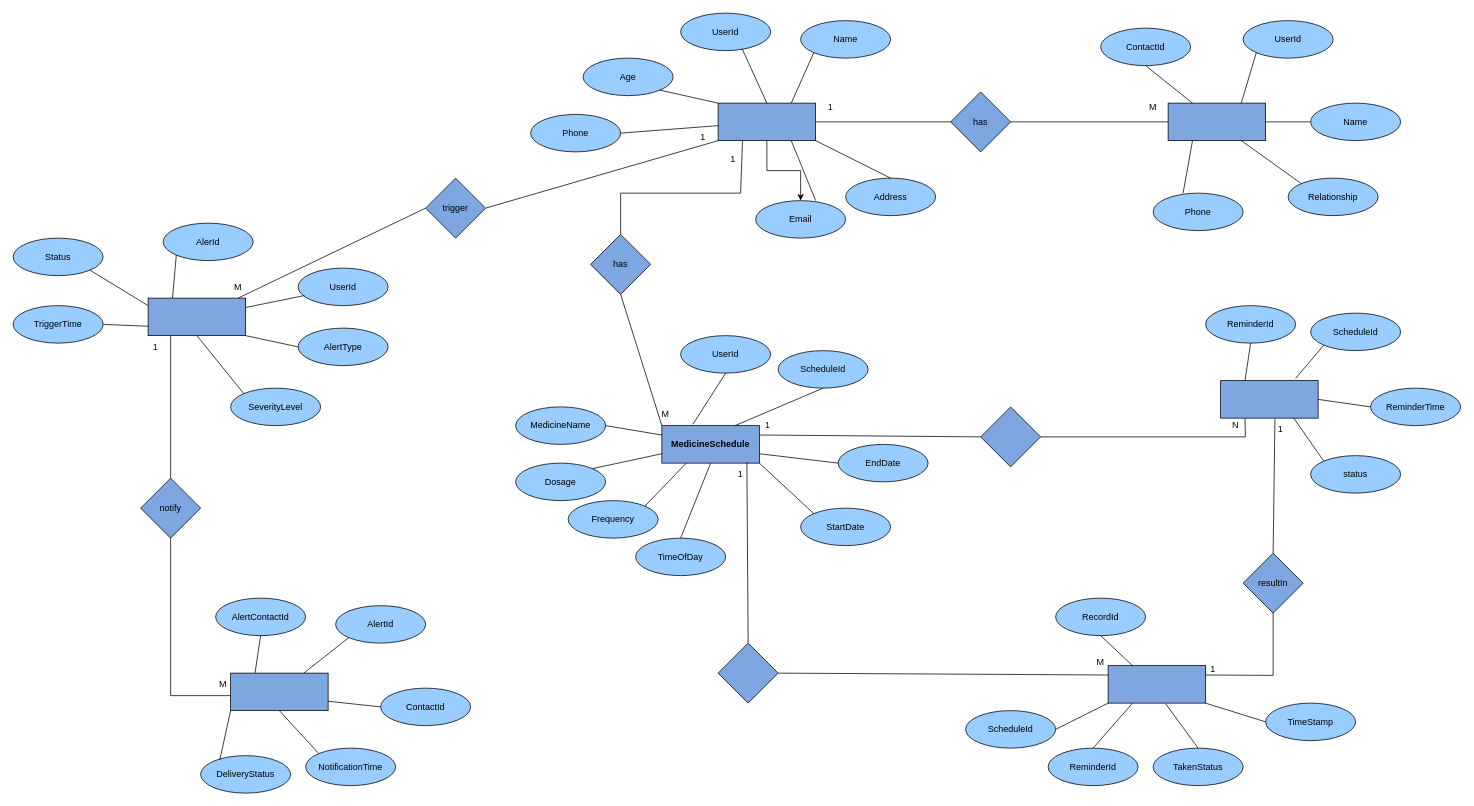
Some shapes in this 1474 by 806 pixel diagram are drawn without their labels. The shapes that lost their labels are listed below. From the top down, each one's centre as x and y in pixels, then its label:
At point 766,121: "User".
At point 1216,121: "EmergencyContact".
At point 196,316: "EmergencAlert".
At point 1269,399: "Reminder".
At point 1010,436: "generate".
At point 279,691: "AlerContact".
At point 747,672: "track".
At point 1156,684: "AdherenceRecord".
